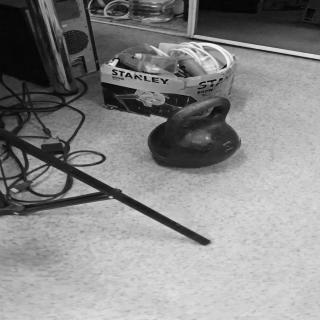kettlebell: (146, 95, 245, 172)
